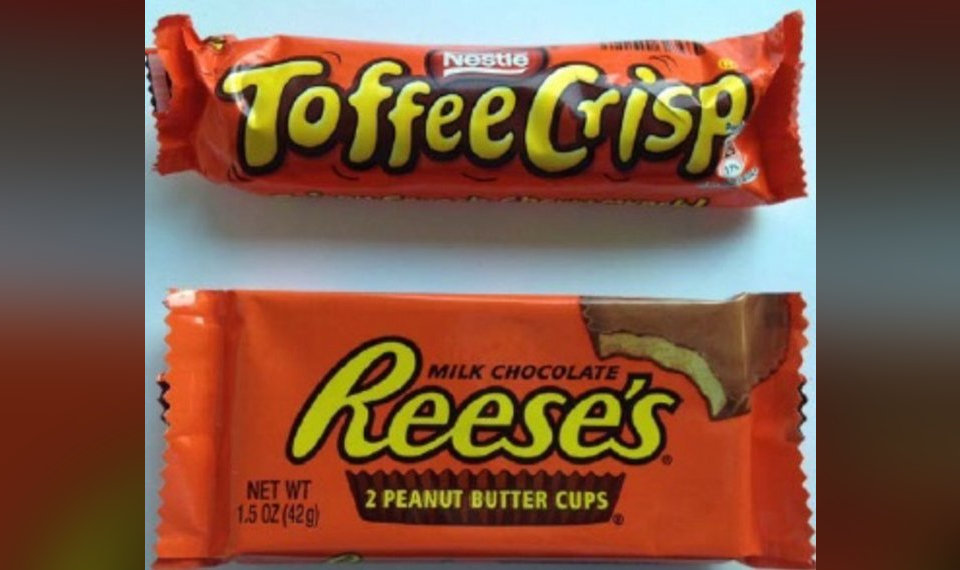reese: (162, 287, 811, 564)
